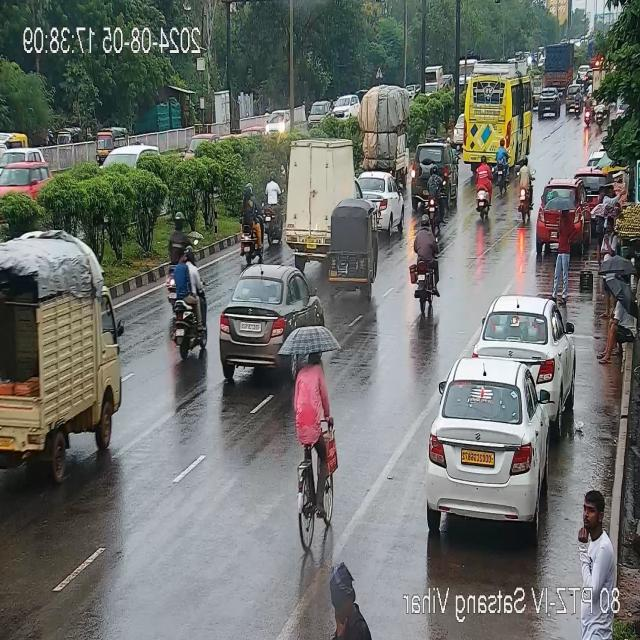2-wheelers: (293, 339, 337, 532), (164, 244, 210, 358), (164, 211, 204, 319), (408, 226, 443, 320), (232, 182, 268, 260), (414, 166, 450, 231), (260, 169, 282, 246), (515, 154, 535, 227), (470, 156, 492, 218), (492, 145, 510, 189), (582, 87, 594, 129), (572, 87, 582, 118)
auto: (0, 222, 125, 432), (326, 192, 384, 296), (94, 126, 128, 164), (0, 132, 30, 154)
bus: (454, 59, 536, 170)
car: (427, 358, 548, 528), (212, 266, 322, 376), (476, 294, 568, 401), (536, 176, 592, 258), (408, 138, 460, 220), (356, 167, 404, 238), (0, 158, 51, 195), (535, 85, 562, 126)
pedestrian: (593, 258, 637, 384), (574, 488, 616, 582), (590, 184, 618, 324), (550, 192, 578, 302)
truck: (284, 136, 352, 256), (541, 40, 575, 90)
